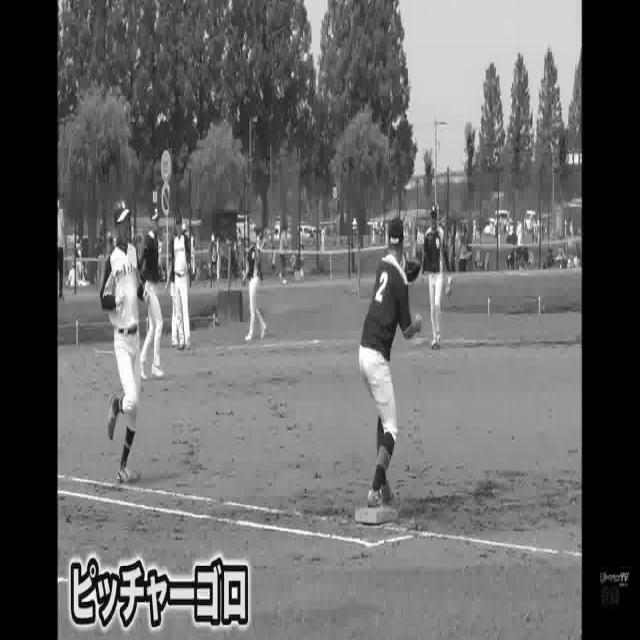base: (350, 506, 406, 532)
baseball_glove: (404, 238, 424, 288)
shoe: (366, 485, 399, 508), (106, 387, 120, 436), (113, 458, 137, 480)
